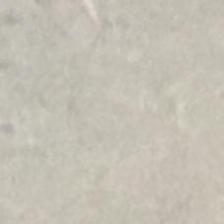Non_Crack: (15, 27, 212, 207)
